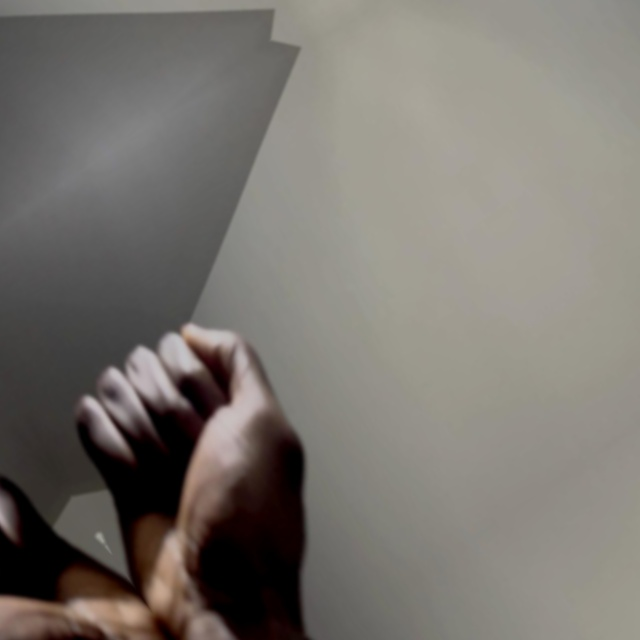Rock: (0, 0, 32, 151)
